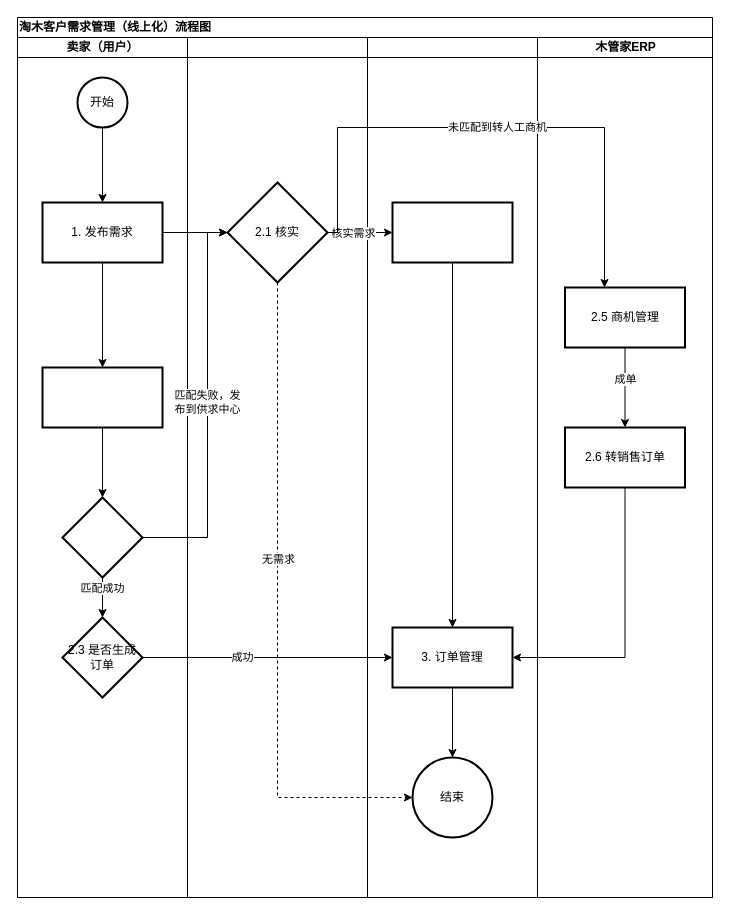
This 730x915 diagram has some shape labels left out. Each missing label, with the box of its shape:
2. 匹配需求: (41, 366, 163, 428)
2.2 是否匹配: (61, 496, 143, 578)
2.4供求中心展示: (391, 201, 513, 263)
淘木商城: (366, 36, 538, 898)
淘木运营后台: (186, 36, 368, 898)
